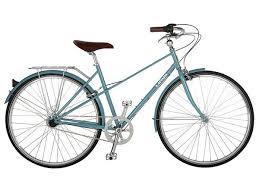bicycle: (3, 17, 258, 175)
